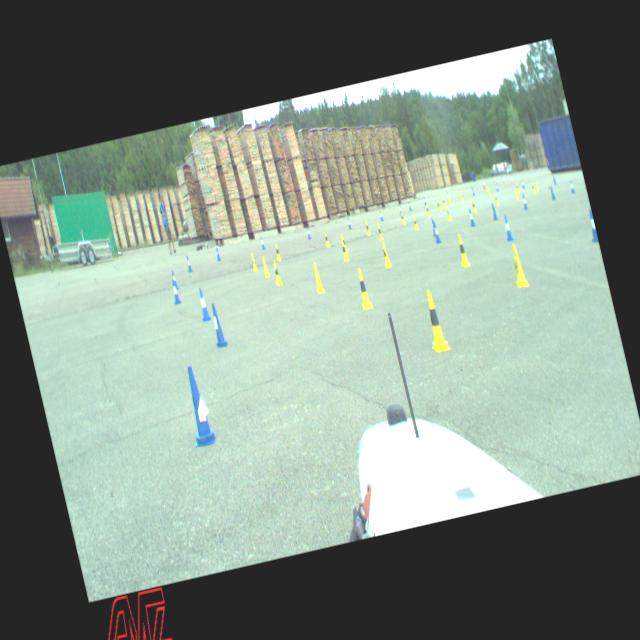blue_cone: (178, 364, 218, 447), (208, 302, 228, 348), (196, 288, 211, 320), (586, 212, 598, 241), (502, 214, 512, 240), (170, 278, 180, 304), (432, 222, 441, 242), (489, 201, 498, 221), (467, 208, 475, 226), (429, 216, 436, 236), (171, 270, 178, 289), (520, 192, 528, 208), (548, 184, 556, 200), (185, 256, 192, 272), (258, 234, 265, 248), (214, 245, 220, 261), (305, 225, 311, 239), (568, 179, 574, 192), (346, 216, 352, 229), (378, 208, 383, 220), (552, 174, 556, 185), (520, 178, 524, 188), (494, 182, 498, 192), (470, 187, 474, 195)
orange_cone: (502, 176, 505, 183), (511, 176, 514, 183)
yellow_cone: (420, 288, 450, 352), (506, 242, 528, 288), (353, 267, 372, 309), (454, 234, 470, 266), (310, 260, 324, 292), (379, 241, 392, 267), (271, 259, 282, 285), (339, 239, 349, 262), (260, 254, 270, 277), (250, 252, 258, 271), (375, 223, 383, 241), (341, 233, 348, 253), (323, 232, 330, 248), (274, 244, 280, 262), (364, 220, 371, 235), (398, 211, 406, 224), (470, 199, 477, 213), (444, 206, 451, 220), (412, 214, 418, 230), (493, 192, 499, 205), (530, 182, 535, 194), (425, 204, 430, 216), (513, 188, 518, 200), (441, 196, 446, 207), (436, 200, 441, 210), (447, 194, 451, 205), (516, 182, 520, 192), (486, 186, 490, 196), (458, 190, 462, 200), (534, 182, 538, 191)
